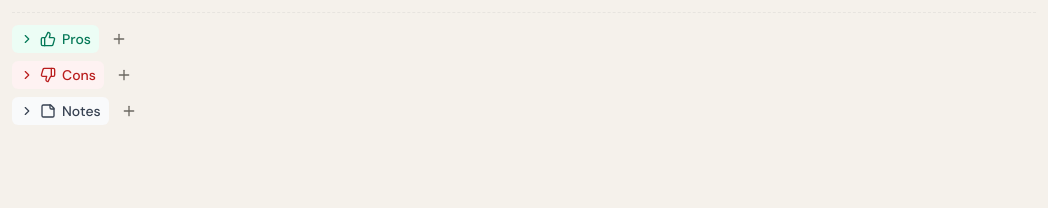
Scenario: ListingNotesPanel › shows add input when clicking add button
This screenshot has width=1048, height=208.
Click the add button for Pros section
Click the button named "Add pros" at (119, 39), box [107, 27, 131, 51]
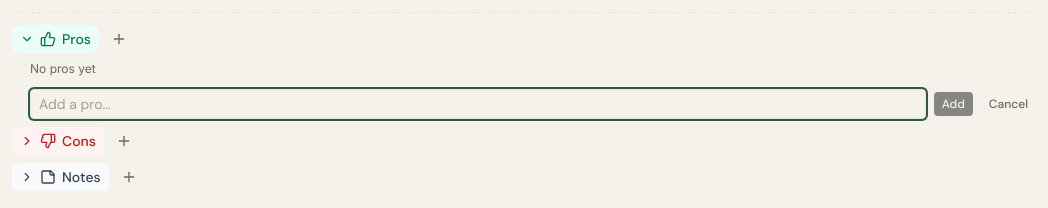
Check: the field with placeholder "Add a pro..." is shown, box [30, 89, 926, 119]
